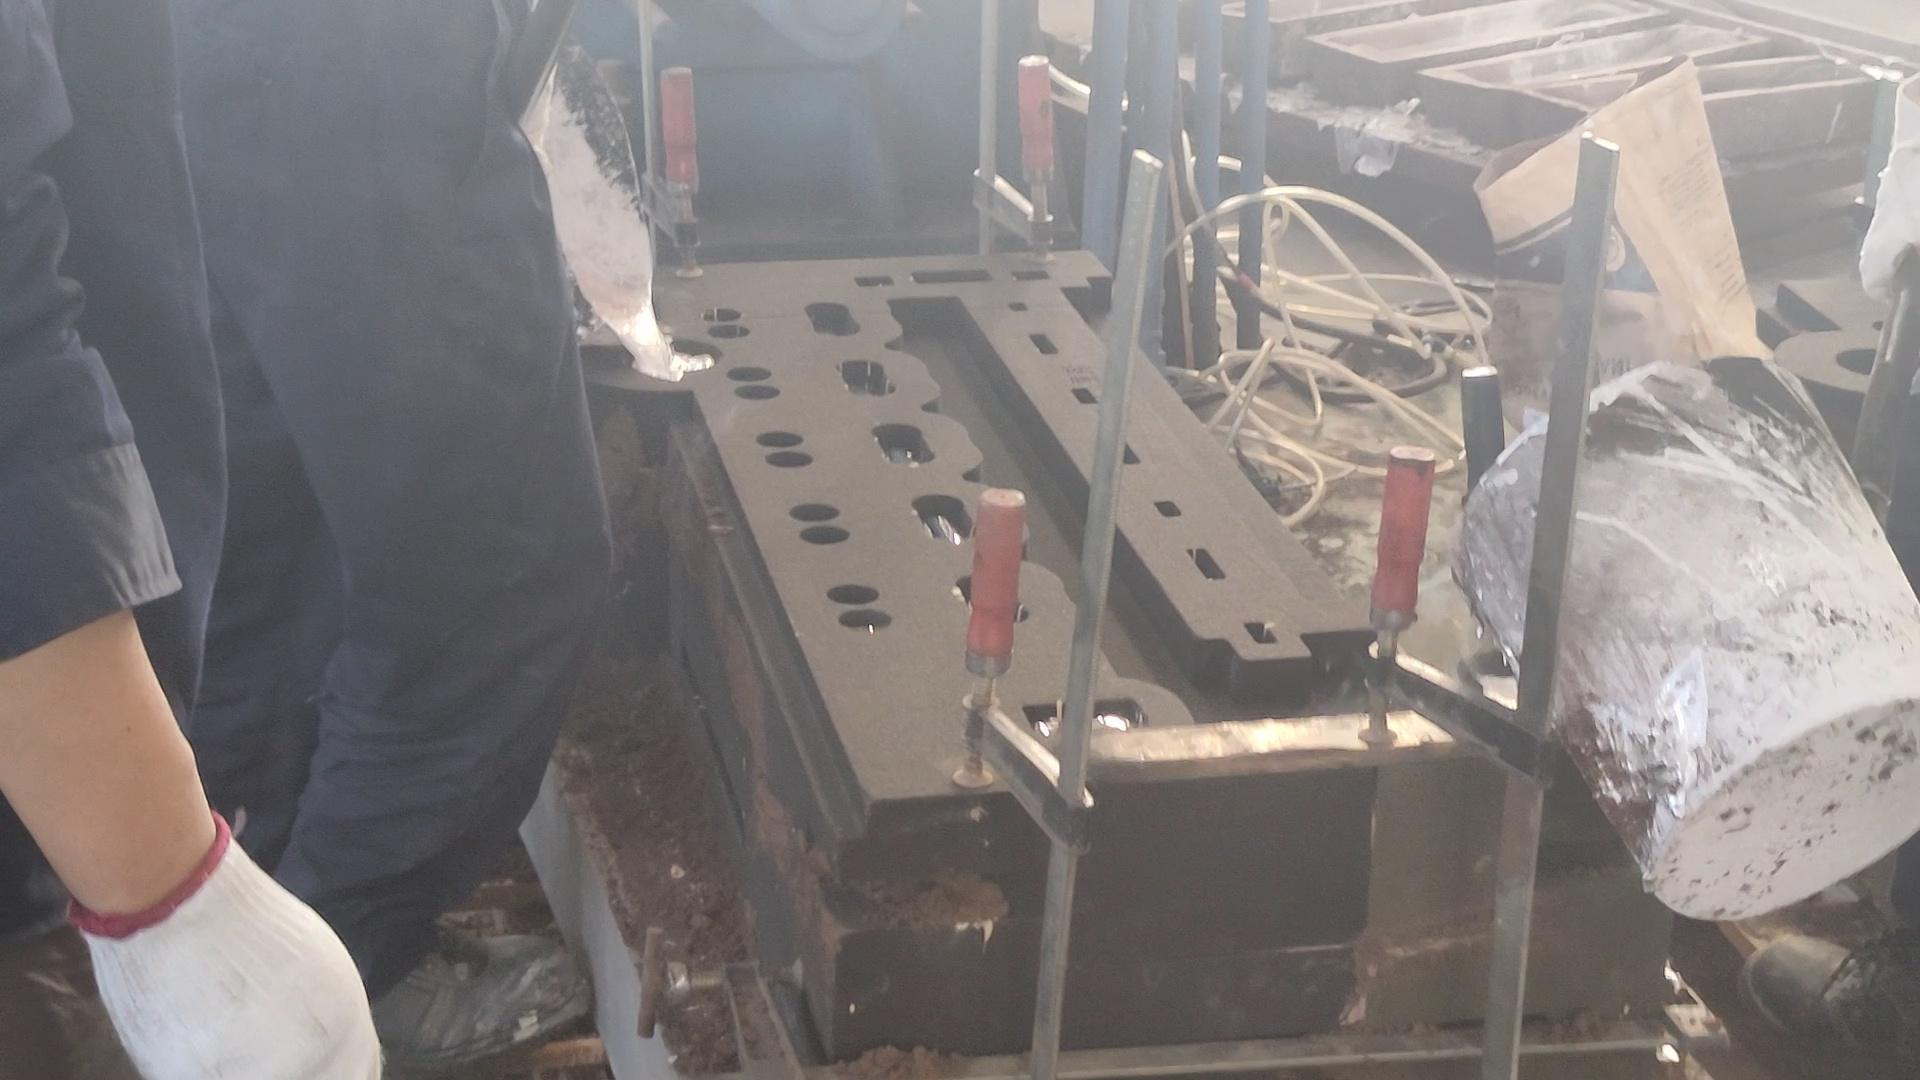pouring hole: (1458, 647, 1567, 711), (621, 336, 724, 378), (1836, 344, 1902, 382)
